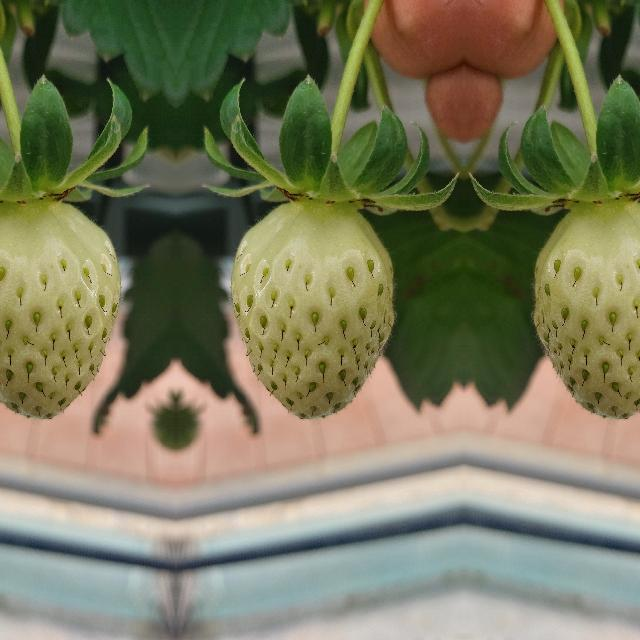Health_25: (230, 201, 392, 419), (0, 201, 120, 419), (533, 201, 640, 419)
